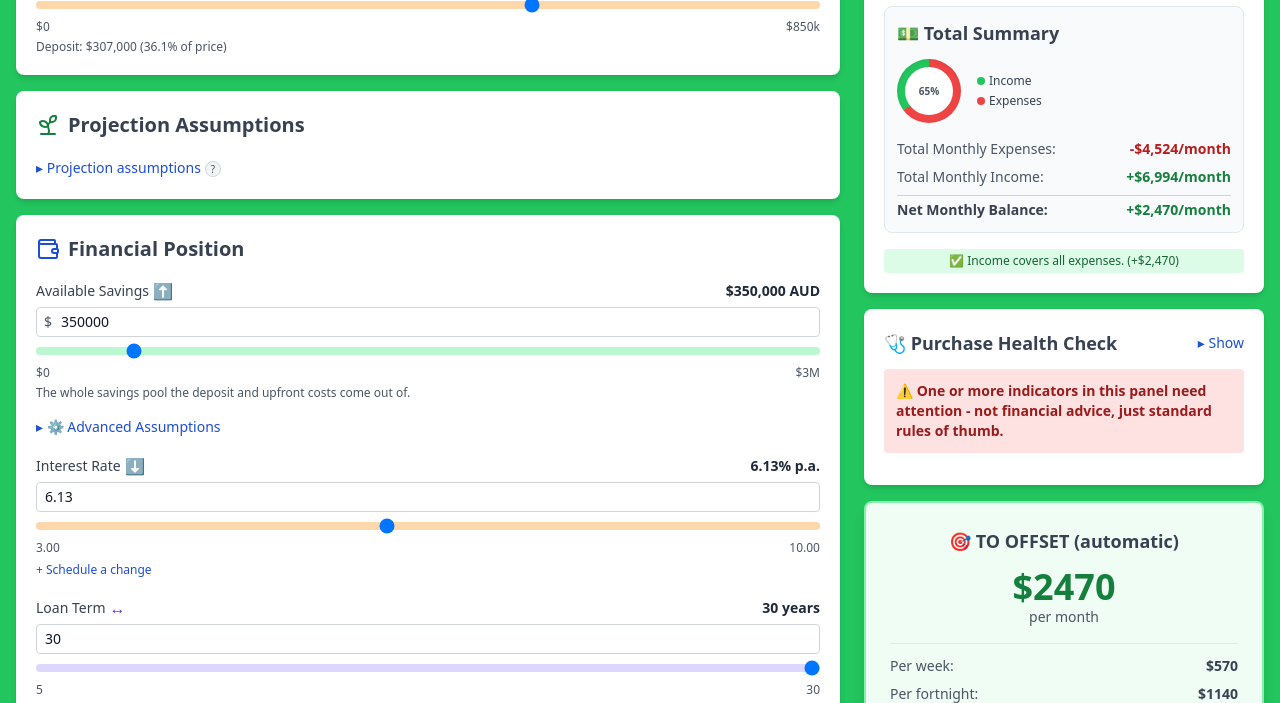
Test: Rental Yield with rental income scheduled to start after month 1 (TODO-158) › still shows the fallback when no rental income exists at any month
The image size is (1280, 703).
(page scrolled)
Click the button "▸ Show".
click(1221, 343)  # box left=1198, top=333, right=1244, bottom=353
(page scrolled)
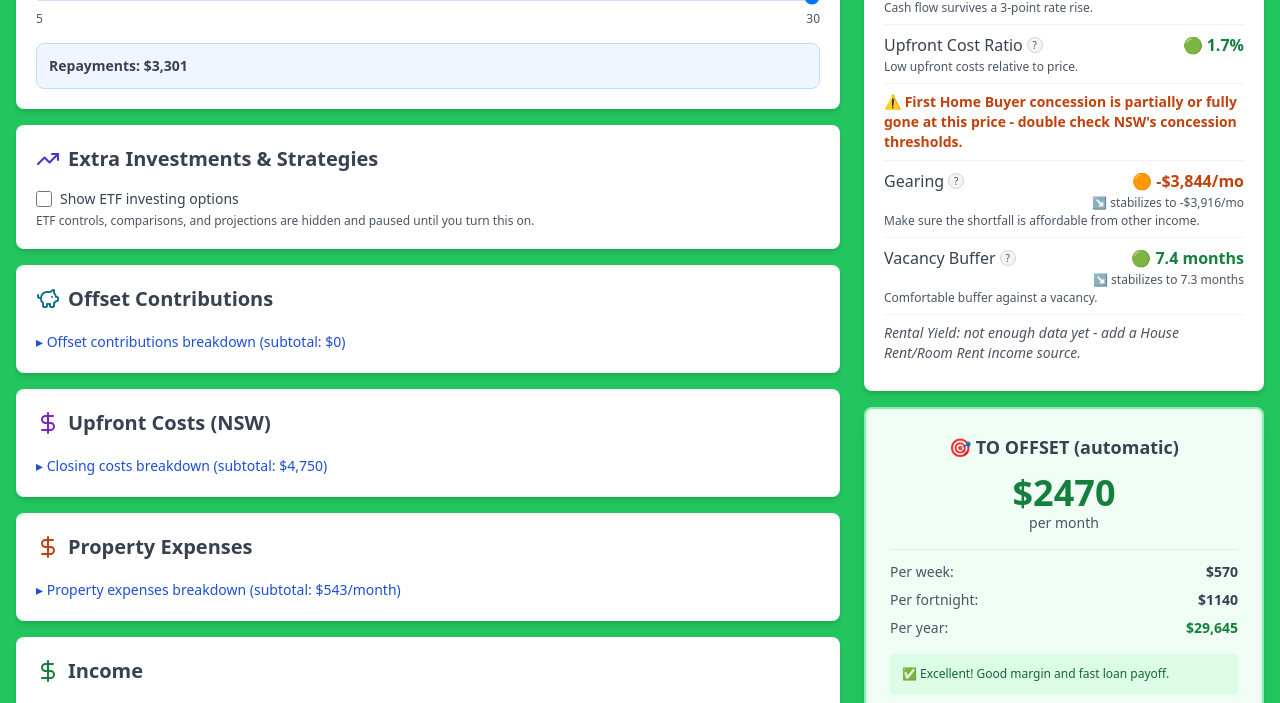
Check: the text "Rental Yield: not enough data yet" is shown, box left=884, top=323, right=1179, bottom=362
